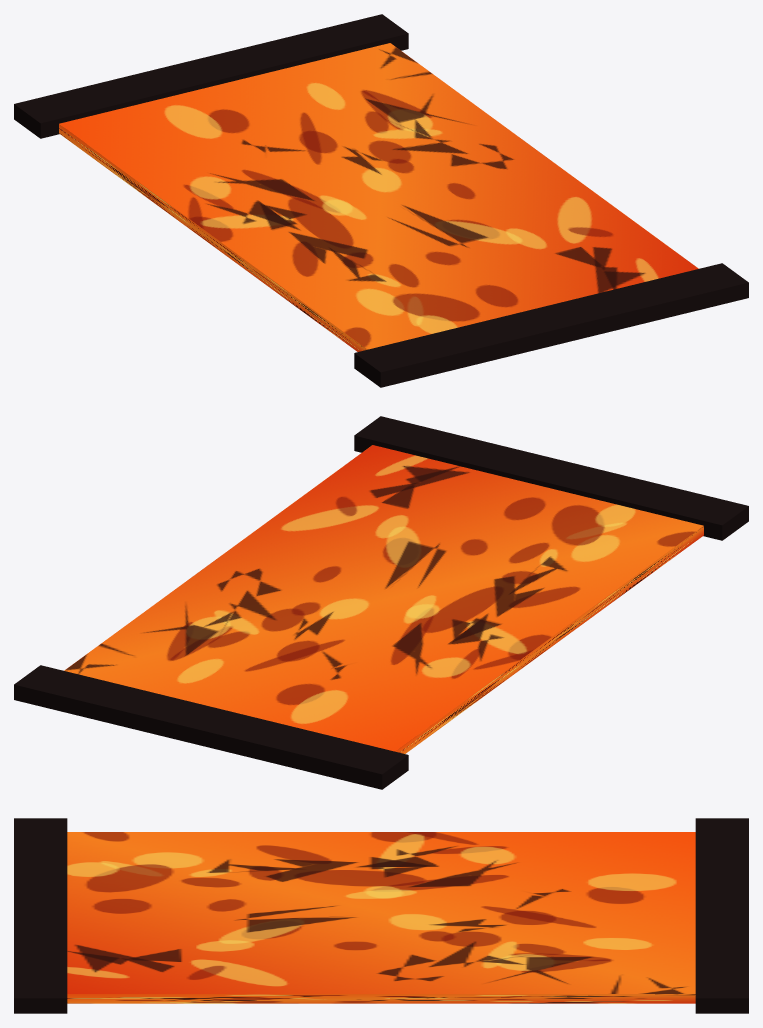
The model's file is gap.glb.
The picture shows the model from 3 angles, top to bottom: view 1: azimuth 30°, elevation 25°; view 2: azimuth 150°, elevation 25°; view 3: azimuth 270°, elevation 25°; orthographic projection.
Parts seen in each view (by area): view 1: hell gap; view 2: hell gap; view 3: hell gap.
Boxes of the visible parts, left/top/right/bottom form: hell gap: left=14, top=14, right=748, bottom=387; hell gap: left=14, top=416, right=748, bottom=789; hell gap: left=14, top=818, right=748, bottom=1013.
Size of the model in its own units: 2 by 0.08 by 3.45.
Materials: 2 (1 with a texture image).
